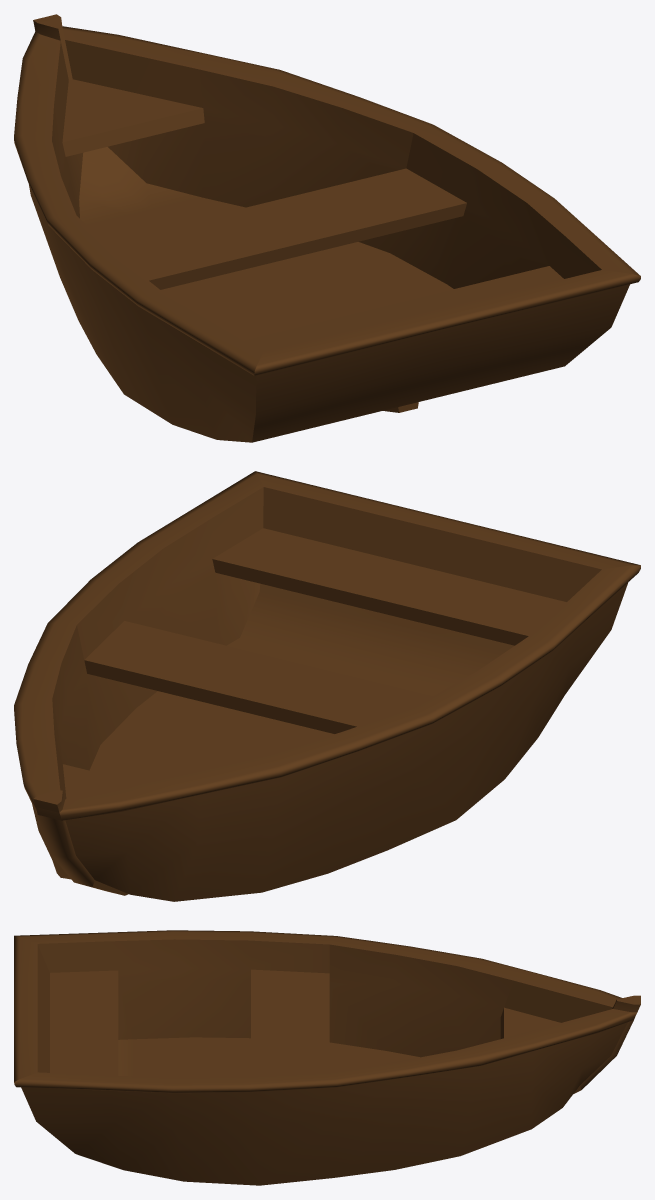
File: Barca001.fbx
3 renders of one model, top to bottom at view 1: azimuth 30°, elevation 25°; view 2: azimuth 150°, elevation 25°; view 3: azimuth 270°, elevation 25°, orthographic. The views are drawn at different scales.
Visible parts, largest first — view 1: Barca001; view 2: Barca001; view 3: Barca001.
Part boxes in pixels (box(x1,y1,x2,y2)): Barca001: box(14, 14, 640, 442); Barca001: box(14, 471, 640, 901); Barca001: box(14, 930, 640, 1185).
Size of the model in its own units: 4.07 by 1.53 by 6.82.
